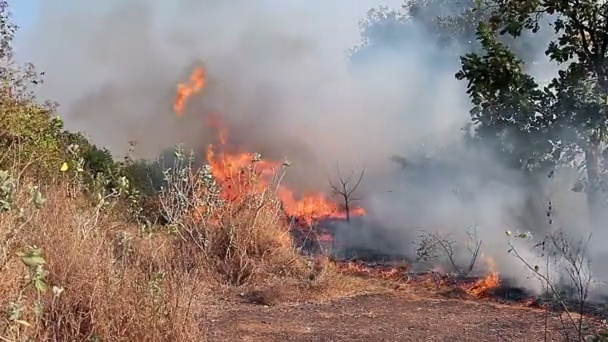fire: (282, 193, 328, 214), (178, 80, 190, 100), (485, 271, 500, 286), (61, 163, 68, 170)
